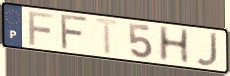5: (128, 22, 155, 59)
F: (60, 13, 91, 52), (27, 10, 57, 48)
H: (157, 24, 192, 64)
J: (195, 32, 220, 69)
T: (93, 16, 123, 57)
